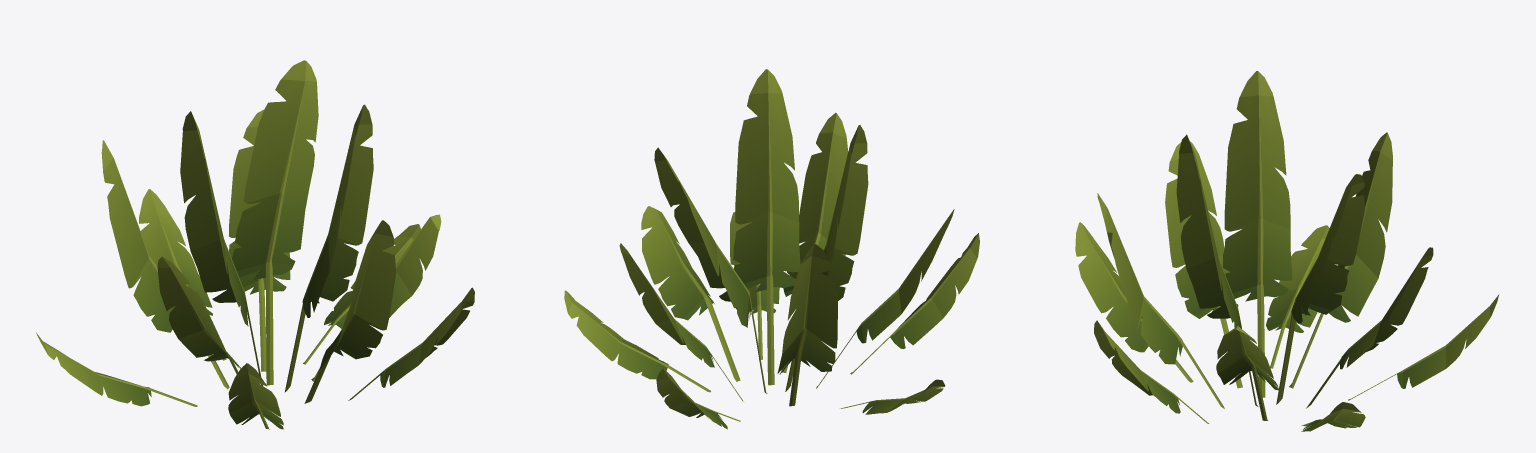
File: Plant_03_02.fbx
The picture shows the model from 3 angles, left to right: view 1: azimuth 30°, elevation 25°; view 2: azimuth 150°, elevation 25°; view 3: azimuth 270°, elevation 25°; orthographic projection. The views are drawn at different scales.
Parts seen in each view (by area): view 1: Plant_03_02_LOD0; view 2: Plant_03_02_LOD0; view 3: Plant_03_02_LOD0.
Part boxes in pixels (x1,y1,x2,y2): Plant_03_02_LOD0: (36, 60, 474, 429); Plant_03_02_LOD0: (564, 69, 979, 429); Plant_03_02_LOD0: (1075, 71, 1499, 431).
Size of what is drawn, in the model's own units: 0.338 by 0.2613 by 0.3343.
